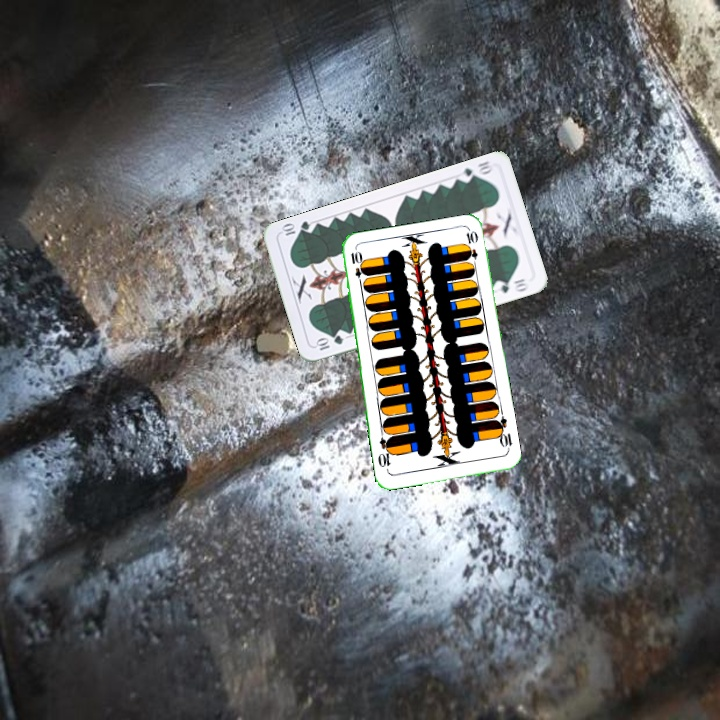E10: (491, 414, 514, 455), (347, 247, 367, 287)
G10: (455, 157, 496, 185), (312, 331, 346, 353)
